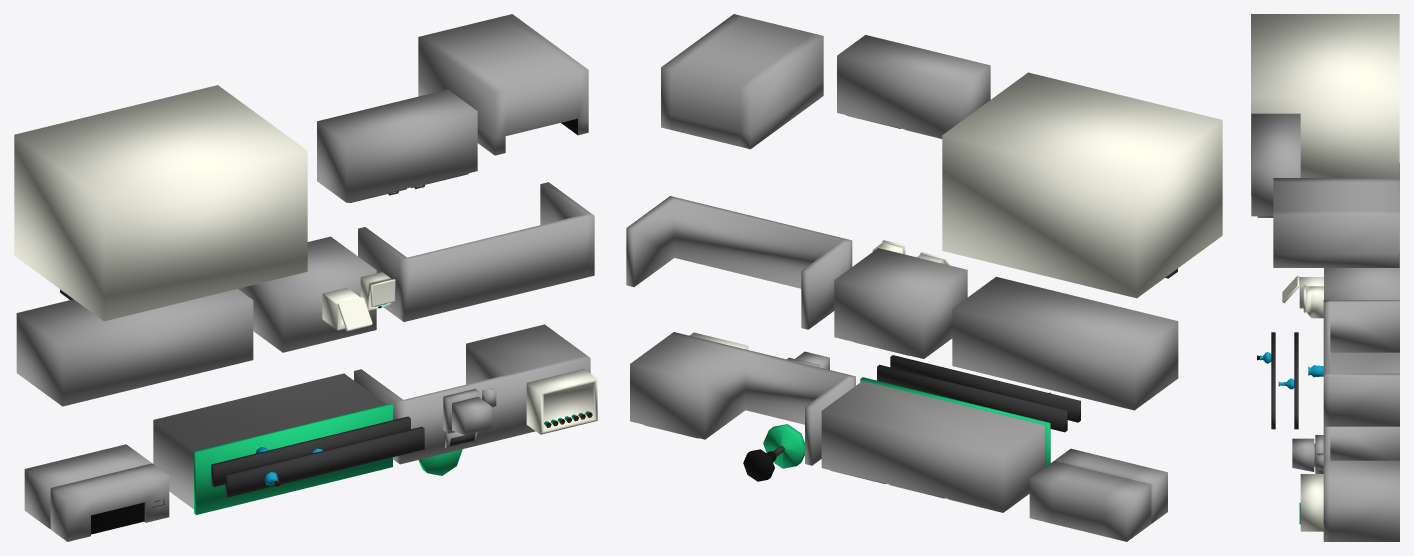
The model's file is Potions.fbx.
3 views of the same model, side by side, from view 1: azimuth 30°, elevation 25°; view 2: azimuth 150°, elevation 25°; view 3: azimuth 270°, elevation 25° (orthographic). The views are drawn at different scales.
Visible parts, largest first — view 1: Cube.010, Cube.001 (×3), balcony_base, balcony_table, Cube.008, Cube.011, Cube.004, Cube.005 (×2), Cube.014, box_samples, Cube.006, Cube.003 (+2 smaller); view 2: Cube.010, Cube.001 (×3), balcony_base, Cube.008, Cube.004, balcony_table, Cube.011, Cube.014, Cube.005, Cylinder.003 (×2); view 3: Cube.010, Cube.008, Cube.004, balcony_table, Cube.011, Cube.001 (×2), Cube.014, box_samples, Cube.006, Cube.002, Cube.003.
Part boxes in pixels (left/top/right/bottom): Cube.010: left=14, top=85, right=307, bottom=321; Cube.001 (×3): left=153, top=373, right=424, bottom=514; balcony_base: left=16, top=289, right=253, bottom=406; balcony_table: left=358, top=182, right=594, bottom=321; Cube.008: left=418, top=14, right=588, bottom=155; Cube.011: left=317, top=89, right=477, bottom=202; Cube.004: left=354, top=324, right=590, bottom=464; Cube.005 (×2): left=24, top=444, right=169, bottom=541; Cube.014: left=238, top=236, right=376, bottom=352; box_samples: left=526, top=369, right=597, bottom=434; Cube.006: left=443, top=388, right=496, bottom=448; Cube.003: left=322, top=287, right=372, bottom=331; Cube.010: left=942, top=72, right=1222, bottom=298; Cube.001 (×3): left=821, top=355, right=1080, bottom=512; balcony_base: left=952, top=276, right=1178, bottom=410; Cube.008: left=661, top=14, right=823, bottom=149; Cube.004: left=630, top=332, right=855, bottom=465; balcony_table: left=626, top=196, right=852, bottom=329; Cube.011: left=837, top=35, right=990, bottom=138; Cube.014: left=834, top=248, right=967, bottom=358; Cube.005: left=1029, top=448, right=1167, bottom=541; Cylinder.003 (×2): left=743, top=424, right=804, bottom=481; Cube.010: left=1251, top=14, right=1399, bottom=195; Cube.008: left=1273, top=178, right=1399, bottom=267; Cube.004: left=1323, top=426, right=1399, bottom=541; balcony_table: left=1323, top=300, right=1399, bottom=426; Cube.011: left=1251, top=113, right=1300, bottom=217; Cube.001 (×2): left=1271, top=332, right=1399, bottom=429; Cube.014: left=1324, top=252, right=1399, bottom=299; box_samples: left=1300, top=474, right=1323, bottom=531; Cube.006: left=1292, top=435, right=1323, bottom=473; Cube.002: left=1303, top=285, right=1323, bottom=318; Cube.003: left=1282, top=275, right=1323, bottom=308.
Bounding box in the file's own units: 18.68 × 13.87 × 5.44.
